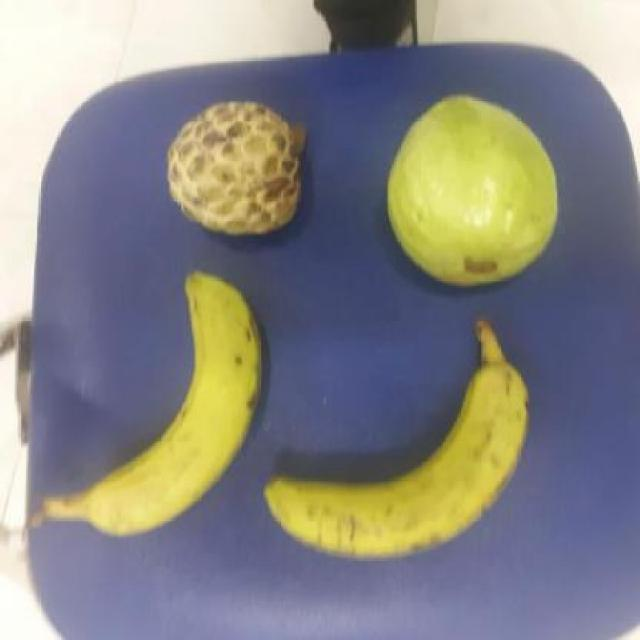banana: (270, 356, 541, 558), (89, 276, 268, 538)
guava: (388, 101, 564, 282), (171, 100, 311, 234)
sugar apple: (168, 101, 309, 237)
